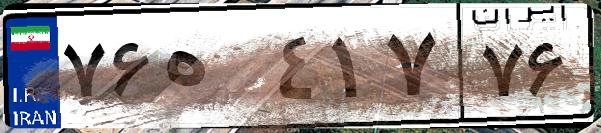1: (330, 28, 385, 110)
4: (270, 28, 330, 110)
6: (525, 38, 570, 115), (110, 28, 158, 98)
7: (385, 28, 445, 110), (57, 26, 110, 100), (475, 38, 525, 113)
ه: (158, 20, 270, 120)
